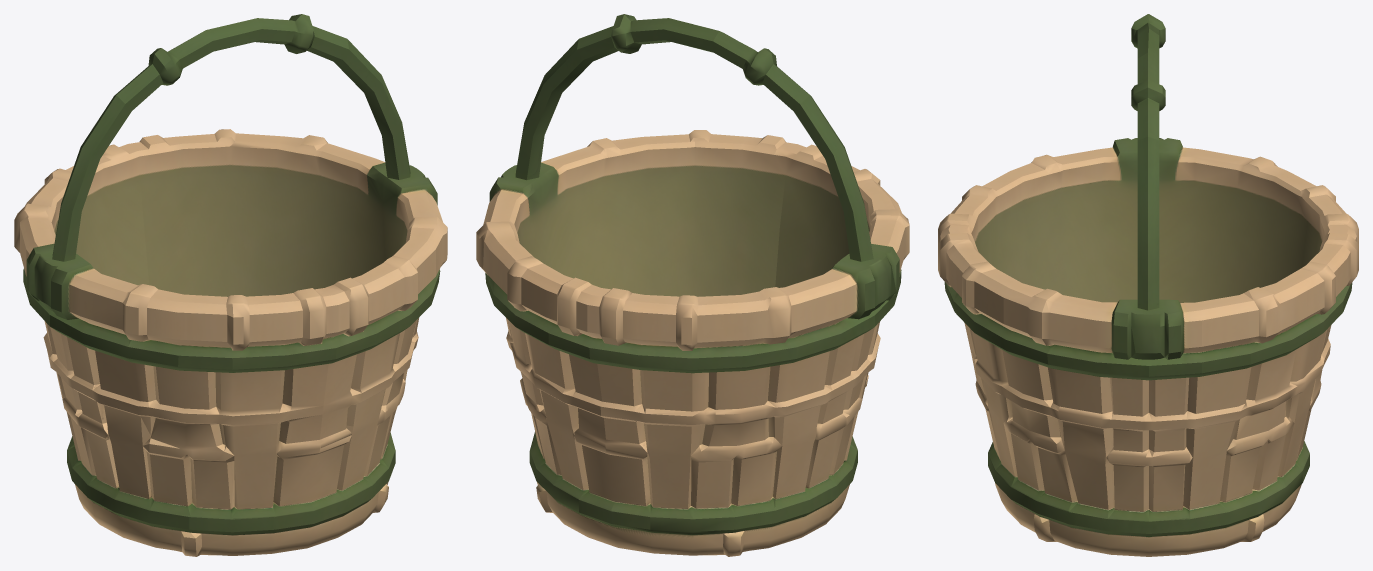
The model's file is base_basic_pbr.fbx.
3 renders of one model, left to right at view 1: azimuth 30°, elevation 25°; view 2: azimuth 150°, elevation 25°; view 3: azimuth 270°, elevation 25°, orthographic. The views are drawn at different scales.
Parts seen in each view (by area): view 1: model; view 2: model; view 3: model.
Boxes of the visible parts, x1=… form: model: x1=14, y1=14, x2=447, y2=556; model: x1=476, y1=14, x2=909, y2=556; model: x1=938, y1=14, x2=1358, y2=556.
Bounding box in the file's own units: 154 × 182 × 151.
Materials: 1 (1 with a texture image).
